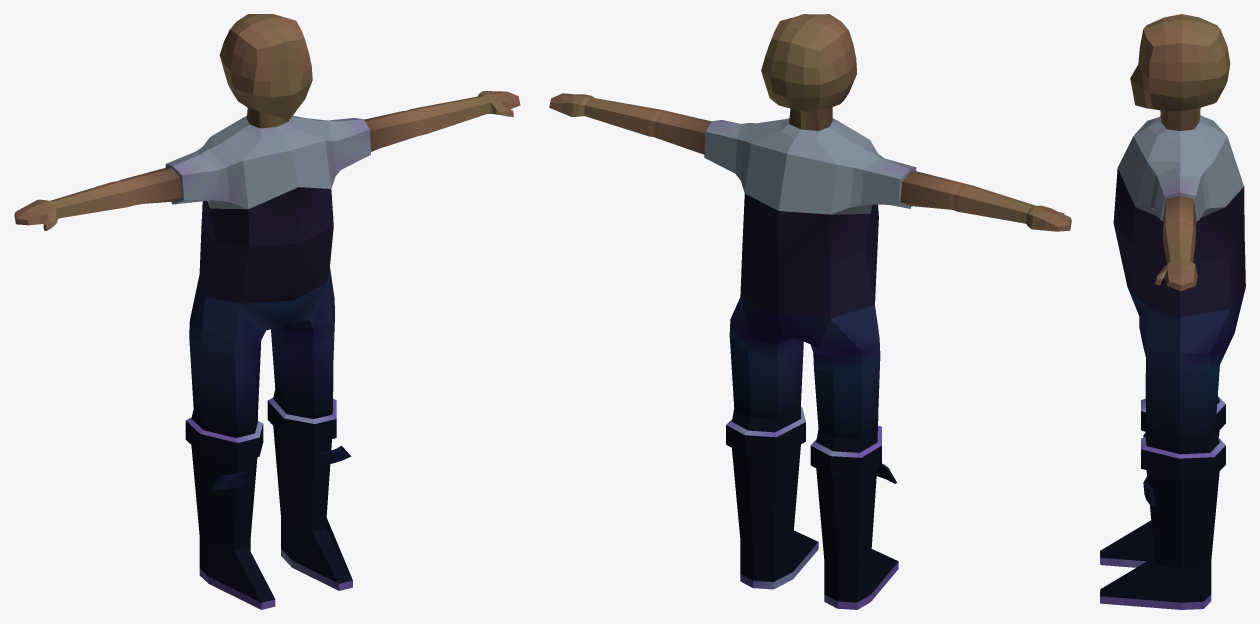
Rendered from client1.fbx.
The picture shows the model from 3 angles, left to right: view 1: azimuth 30°, elevation 25°; view 2: azimuth 150°, elevation 25°; view 3: azimuth 270°, elevation 25°; orthographic projection. The views are drawn at different scales.
Visible parts, largest first — view 1: ClientNEW [vertex painted]; view 2: ClientNEW [vertex painted]; view 3: ClientNEW [vertex painted].
Boxes of the visible parts, x1,y1,x2,y2 form: ClientNEW [vertex painted]: [14, 14, 520, 609]; ClientNEW [vertex painted]: [549, 14, 1071, 609]; ClientNEW [vertex painted]: [1100, 14, 1245, 609].
Bounding box in the file's own units: 1.41 × 1.47 × 0.3462.
